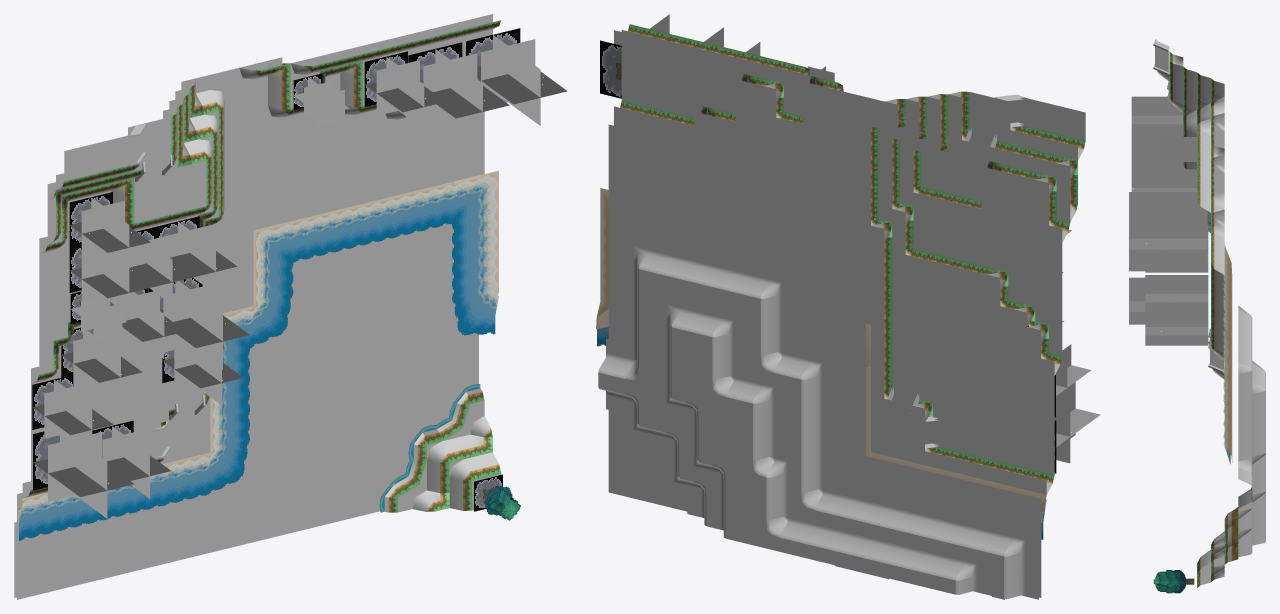
The model's file is Barrier-Reef_04_05.obj.
3 renders of one model, left to right at view 1: azimuth 30°, elevation 25°; view 2: azimuth 150°, elevation 25°; view 3: azimuth 270°, elevation 25°, orthographic. The views are drawn at different scales.
Visible parts, largest first — view 1: map; view 2: map; view 3: map.
Boxes of the visible parts, box(x1,y1,x2,y2) form: map: box(14, 14, 567, 599); map: box(596, 14, 1100, 599); map: box(1129, 39, 1265, 593).
Bounding box in the file's own units: 33.75 × 32.13 × 9.94.
